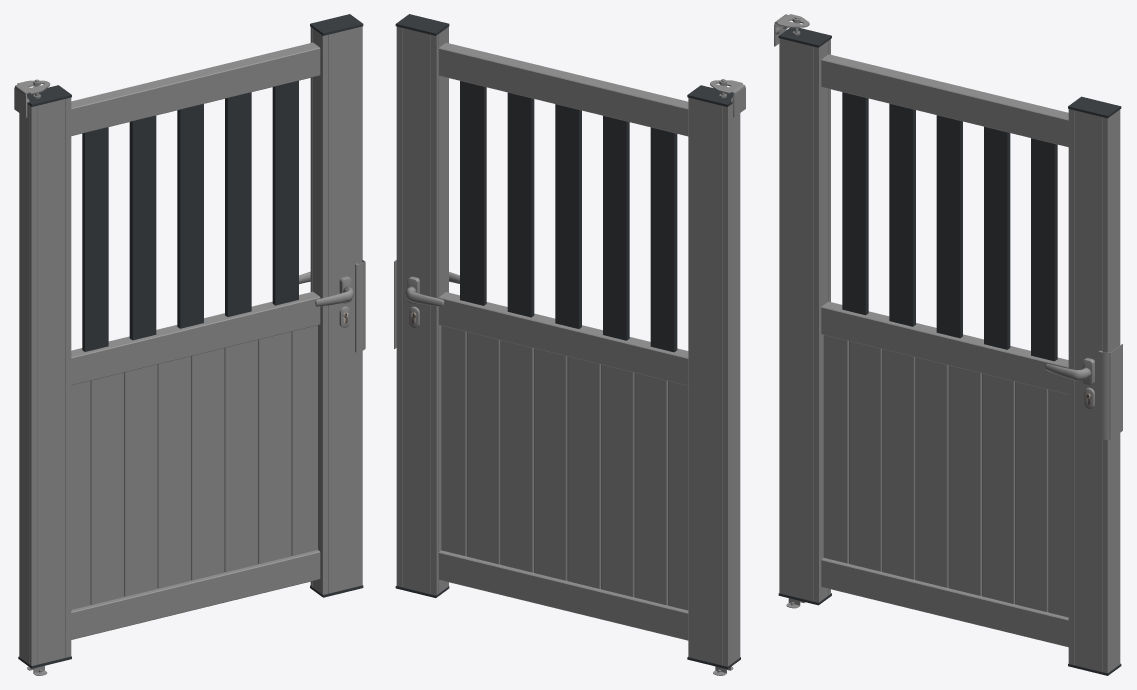
The picture shows the model from 3 angles, left to right: view 1: azimuth 30°, elevation 25°; view 2: azimuth 150°, elevation 25°; view 3: azimuth 330°, elevation 25°; orthographic projection.
Visible parts, largest first — view 1: Plane004, Shape107412643, Shape107412644, Shape096, Shape092, Shape095, Shape098, Shape099, Shape101, Shape100, Shape102, Shape097 (+6 smaller); view 2: Plane004, Shape107412643, Shape107412644, Shape096, Shape092, Shape102, Shape095, Shape101, Shape100, Shape097, Shape099, Shape098 (+5 smaller); view 3: Plane004, Shape107412644, Shape107412643, Shape096, Shape092, Shape098, Shape100, Shape102, Shape099, Shape095, Shape097, Shape101 (+5 smaller).
Part boxes in pixels (x1,y1,x2,y2): Plane004: [82, 80, 298, 351]; Shape107412643: [19, 97, 71, 665]; Shape107412644: [310, 26, 362, 594]; Shape096: [71, 42, 320, 135]; Shape092: [71, 291, 320, 385]; Shape095: [71, 550, 320, 639]; Shape098: [124, 364, 157, 596]; Shape099: [157, 356, 190, 588]; Shape101: [224, 340, 257, 572]; Shape100: [191, 348, 224, 580]; Shape102: [258, 331, 291, 563]; Shape097: [90, 372, 123, 604]; Plane004: [460, 81, 677, 352]; Shape107412643: [688, 97, 740, 666]; Shape107412644: [396, 26, 448, 595]; Shape096: [438, 42, 688, 136]; Shape092: [438, 292, 688, 385]; Shape102: [466, 332, 500, 564]; Shape095: [438, 550, 688, 640]; Shape101: [500, 340, 533, 572]; Shape100: [534, 348, 567, 580]; Shape097: [634, 373, 667, 605]; Shape099: [567, 356, 600, 588]; Shape098: [601, 364, 634, 596]; Plane004: [842, 92, 1057, 361]; Shape107412644: [1068, 109, 1120, 672]; Shape107412643: [779, 38, 830, 602]; Shape096: [821, 54, 1068, 147]; Shape092: [821, 301, 1068, 394]; Shape098: [882, 349, 915, 579]; Shape100: [948, 365, 981, 595]; Shape102: [1015, 381, 1048, 612]; Shape099: [915, 357, 948, 587]; Shape095: [821, 558, 1068, 647]; Shape097: [849, 341, 881, 571]; Shape101: [982, 373, 1014, 603].
Bounding box in the file's own units: 1014 × 1688 × 171.
Materials: 8 (4 with a texture image).
